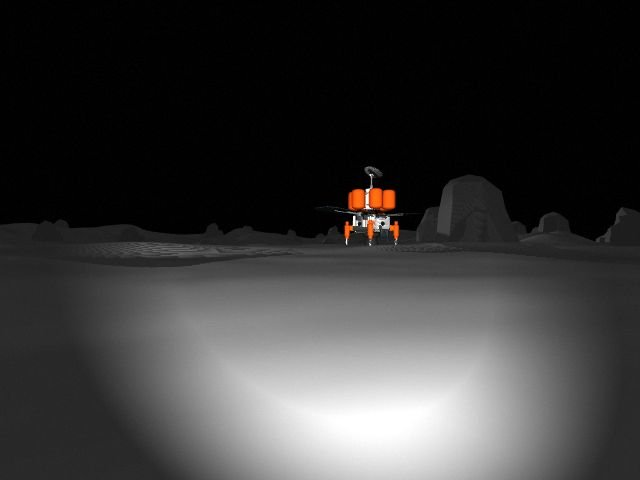homebase: (312, 158, 421, 248)
